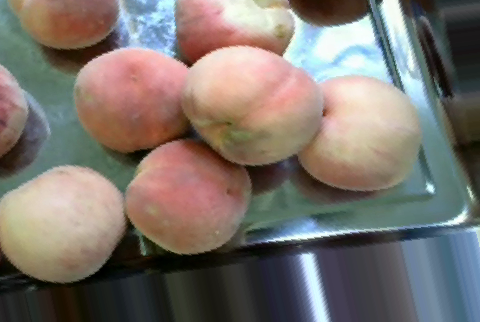Peach: (183, 46, 317, 163), (1, 164, 125, 283), (125, 141, 250, 255), (302, 74, 420, 193), (75, 47, 194, 152), (173, 0, 299, 64), (5, 1, 124, 50)
